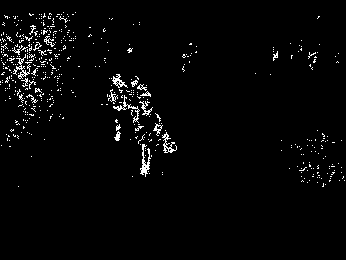person: (132, 104, 174, 183), (100, 69, 129, 141), (127, 74, 146, 134)
